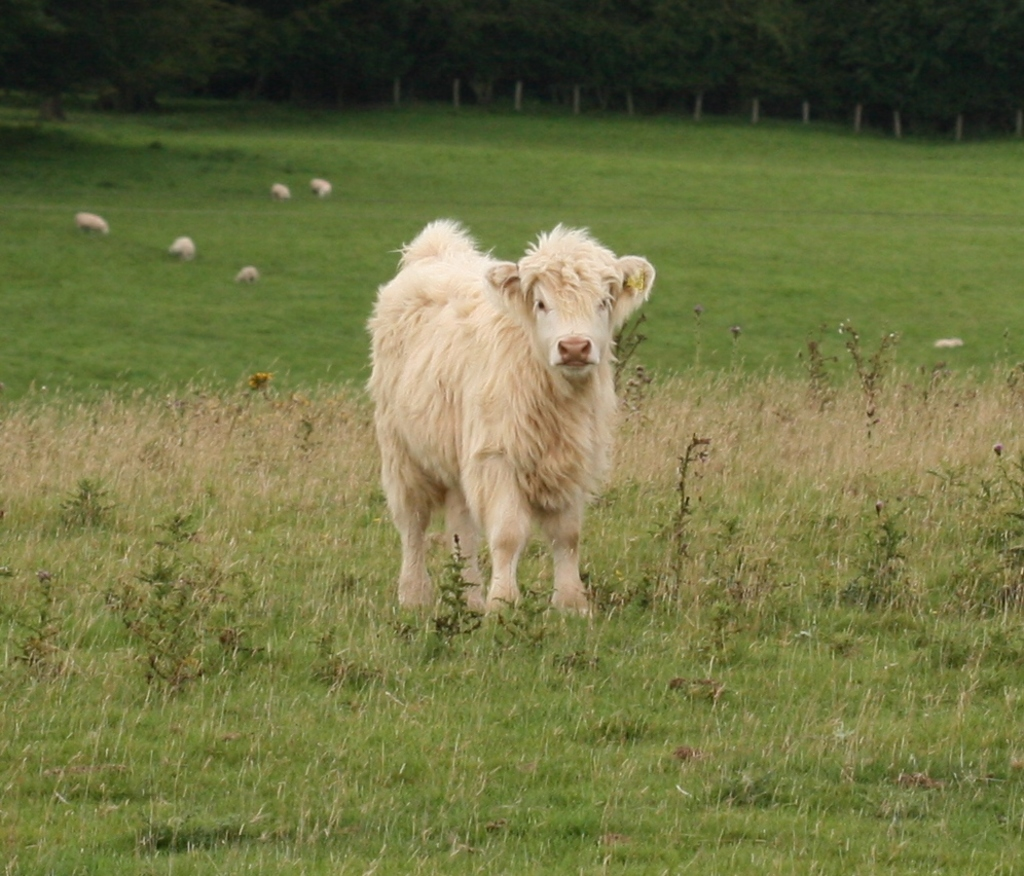sheep: (363, 219, 655, 622), (72, 211, 109, 233), (309, 172, 333, 197), (168, 236, 192, 257), (233, 266, 257, 284), (935, 339, 964, 350), (272, 184, 289, 201)
